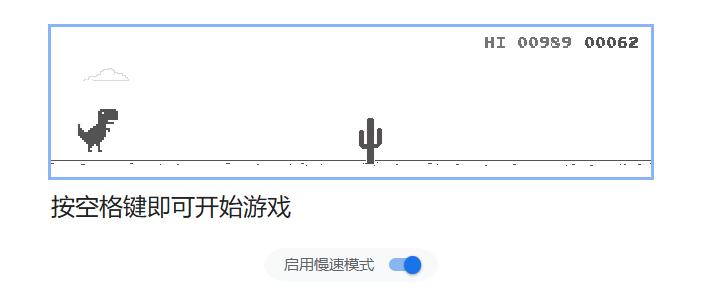cactus: (357, 118, 384, 166)
dino: (75, 107, 120, 152)
